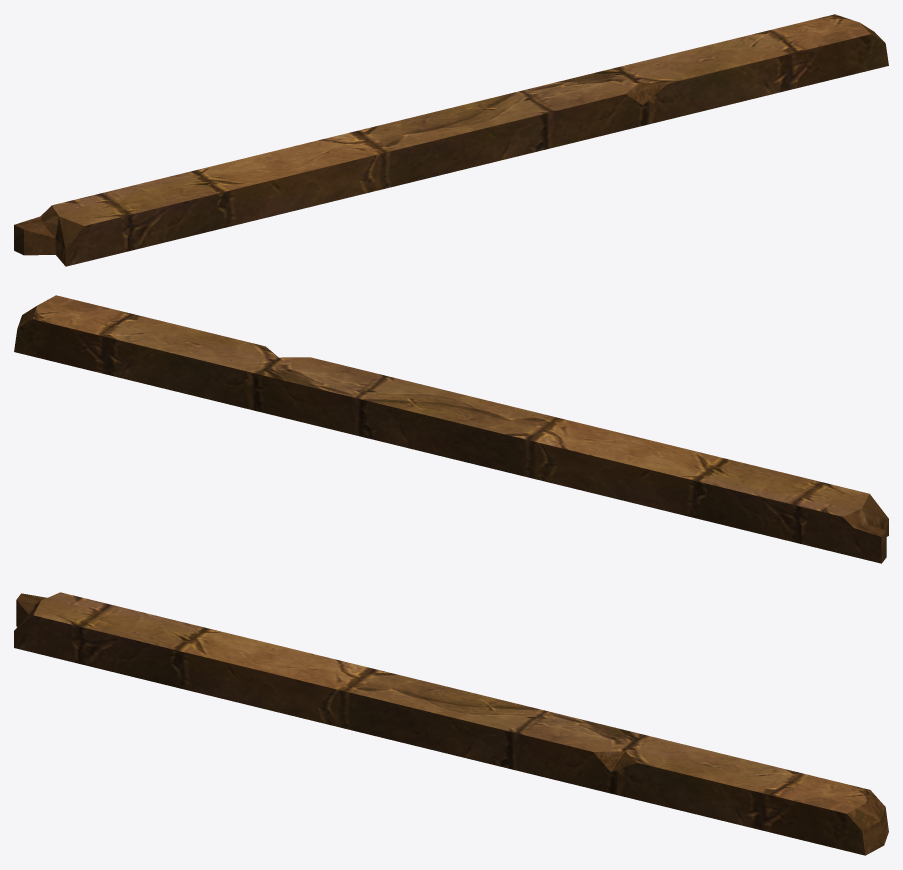
Rendered from Scene_hubian_005.FBX.
The picture shows the model from 3 angles, top to bottom: view 1: azimuth 30°, elevation 25°; view 2: azimuth 150°, elevation 25°; view 3: azimuth 330°, elevation 25°; orthographic projection. The views are drawn at different scales.
Parts seen in each view (by area): view 1: Scene_hubian_005; view 2: Scene_hubian_005; view 3: Scene_hubian_005.
Boxes of the visible parts, x1,y1,x2,y2 form: Scene_hubian_005: (14, 14, 888, 266); Scene_hubian_005: (14, 295, 888, 563); Scene_hubian_005: (14, 592, 888, 855).
Bounding box in the file's own units: 16.57 × 0.6739 × 0.9941.
